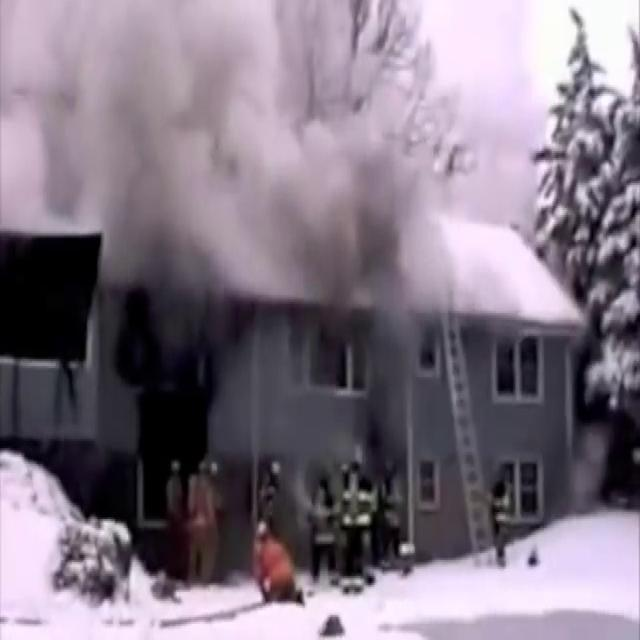Smoke: (0, 0, 470, 457)
